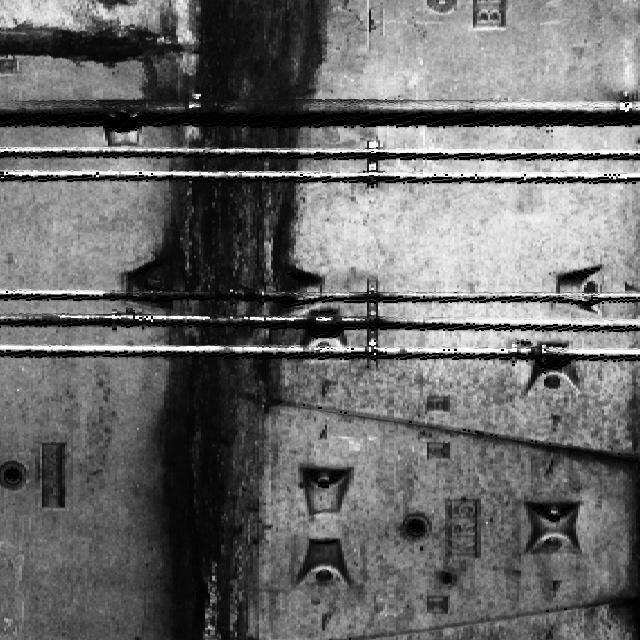leakage: (137, 2, 322, 639), (3, 6, 135, 70)
